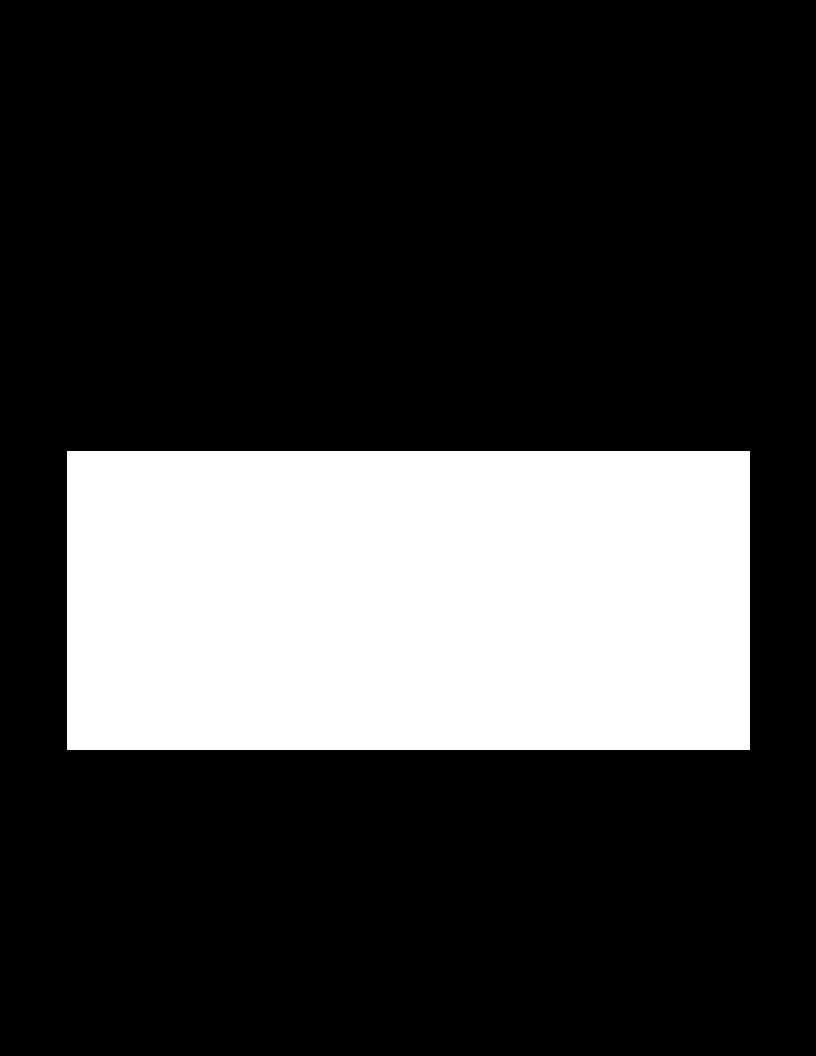table: (67, 451, 749, 749)
